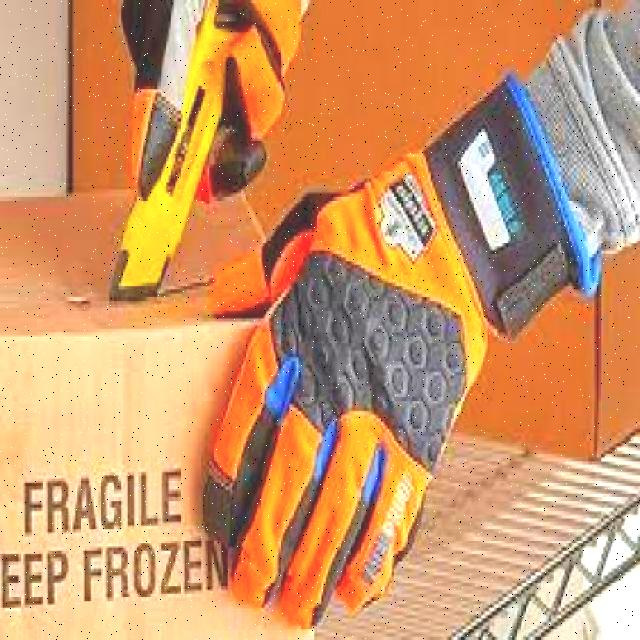Gloves: (198, 172, 507, 606), (109, 0, 303, 211)
